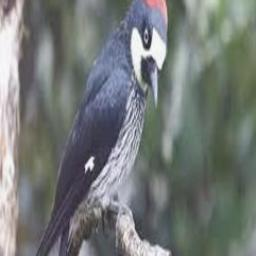Woodpecker: (34, 0, 167, 256)
